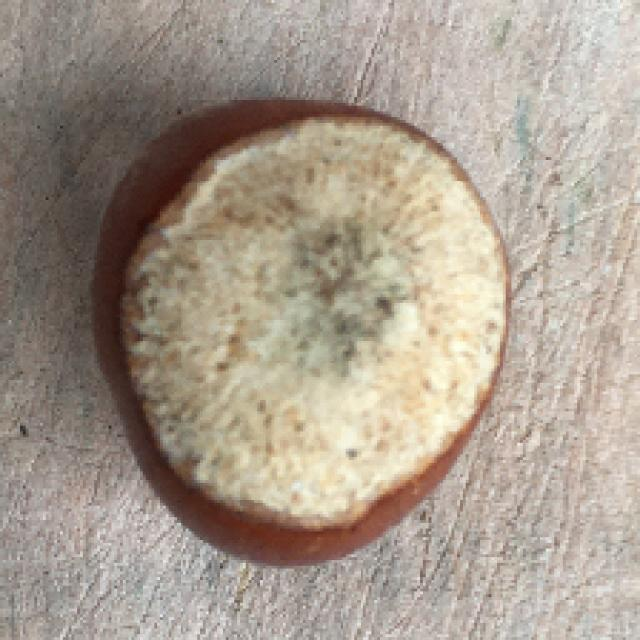qualityHazelnut: (85, 91, 518, 566)
